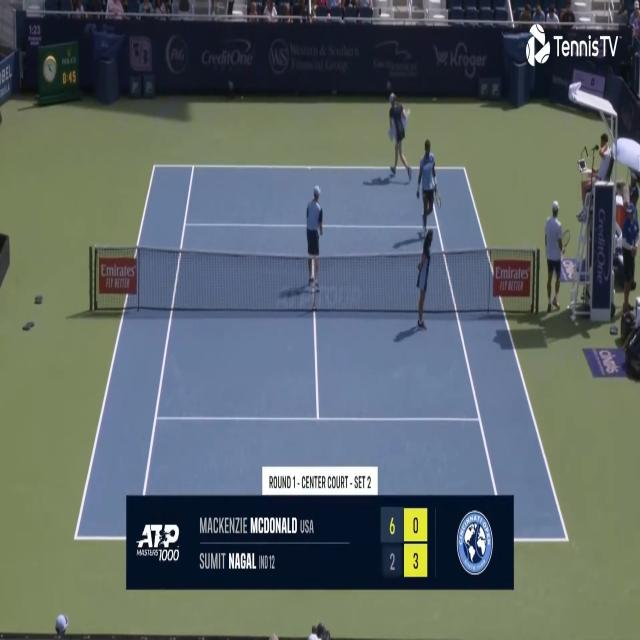tennis-player: (542, 198, 570, 316), (415, 135, 443, 240)
